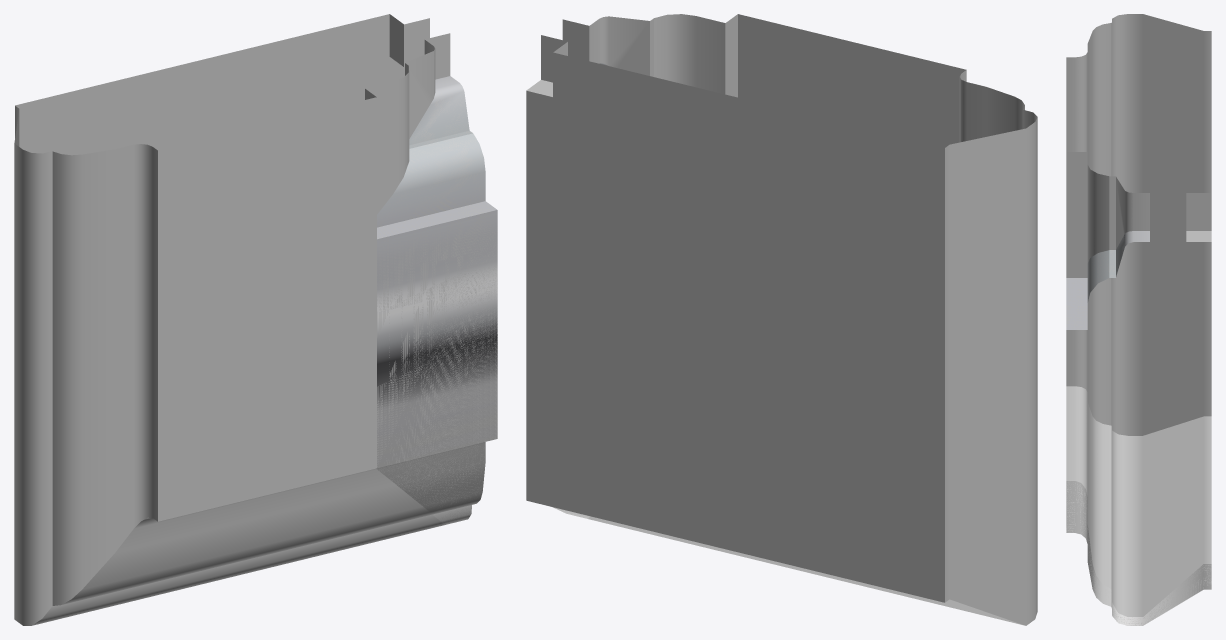
Rendered from original-40.obj.
The picture shows the model from 3 angles, left to right: view 1: azimuth 30°, elevation 25°; view 2: azimuth 150°, elevation 25°; view 3: azimuth 270°, elevation 25°; orthographic projection. The views are drawn at different scales.
Parts seen in each view (by area): view 1: LT_11_BL1/LT_11_BL/mesh31/mesh31-geometry#mesh31-geometry; view 2: LT_11_BL1/LT_11_BL/mesh31/mesh31-geometry#mesh31-geometry; view 3: LT_11_BL1/LT_11_BL/mesh31/mesh31-geometry#mesh31-geometry.
Boxes of the visible parts, <box> form: LT_11_BL1/LT_11_BL/mesh31/mesh31-geometry#mesh31-geometry: <box>14,14,497,625</box>; LT_11_BL1/LT_11_BL/mesh31/mesh31-geometry#mesh31-geometry: <box>526,14,1037,625</box>; LT_11_BL1/LT_11_BL/mesh31/mesh31-geometry#mesh31-geometry: <box>1066,14,1211,625</box>.
Size of the model in its own units: 0.087 by 0.09 by 0.0281.
